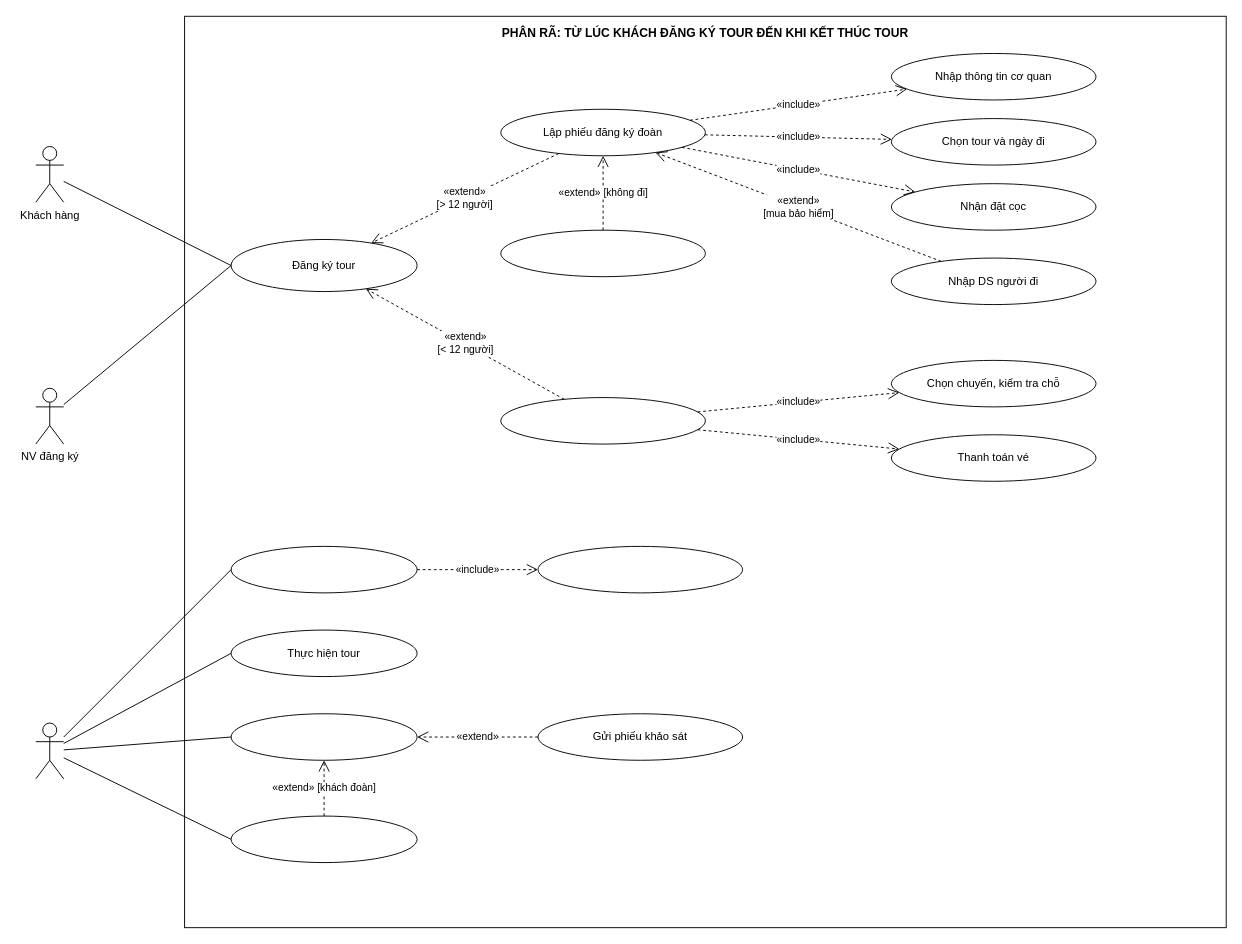
The diagram is 1242 pixels wide and 944 high, and some of its shapes have lost their labels. Each missing label, with the centre of its shape:
Hủy đăng ký (mất cọc): the point at 602,253
Kiểm tra trùng lịch: the point at 640,569
Kết thúc tour: the point at 323,736
Mua vé theo chuyến: the point at 602,420
NV điều hành: the point at 49,750
Phân công HDV: the point at 323,569
Quyết toán đoàn: the point at 323,839
